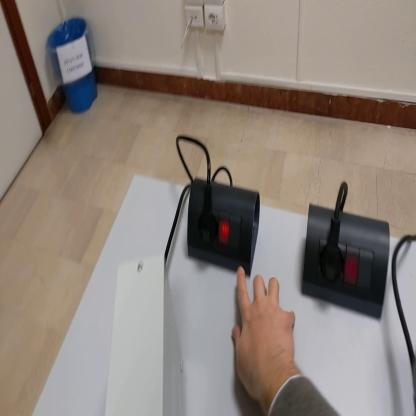hand: (232, 268, 299, 400)
power supply: (107, 262, 181, 414)
socket: (301, 203, 393, 324), (187, 182, 261, 284)
